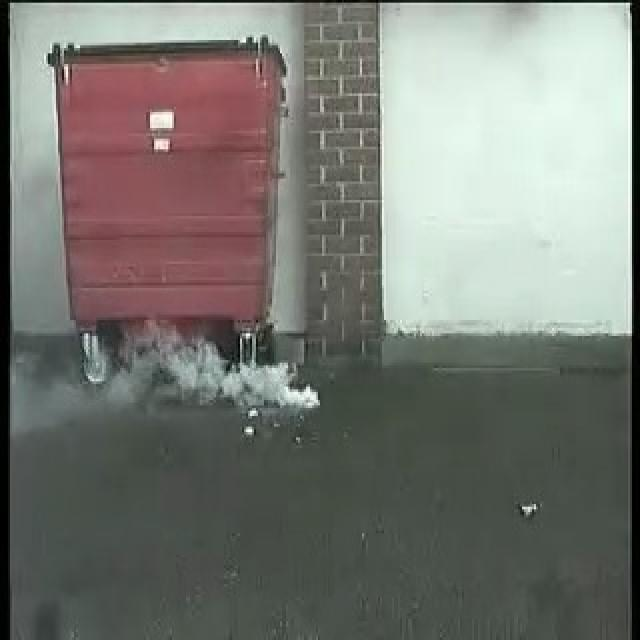smoke: (100, 324, 323, 418)
